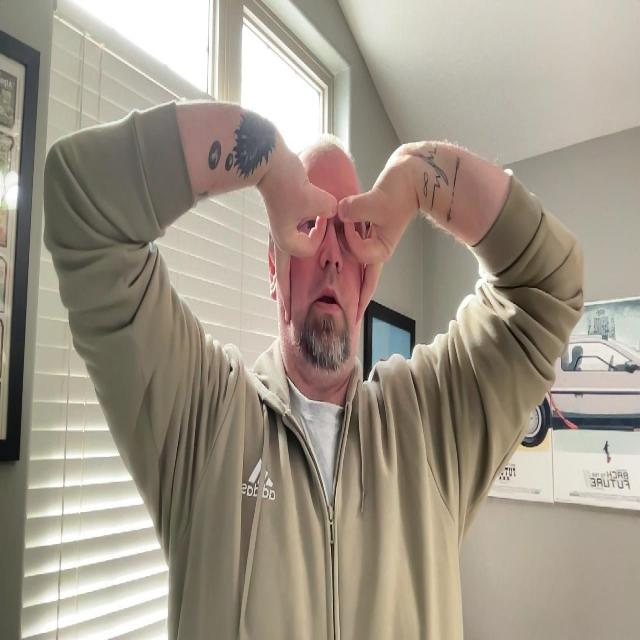face: (286, 162, 364, 375)
